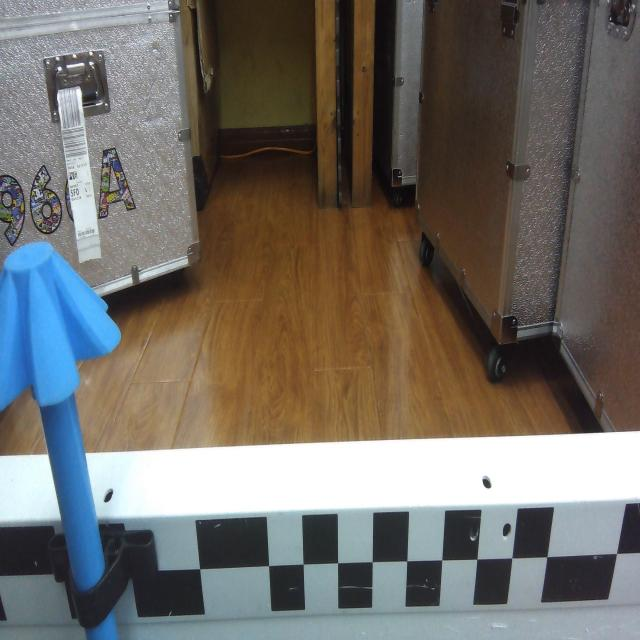zblue-Stake-Head: (0, 242, 122, 411)
